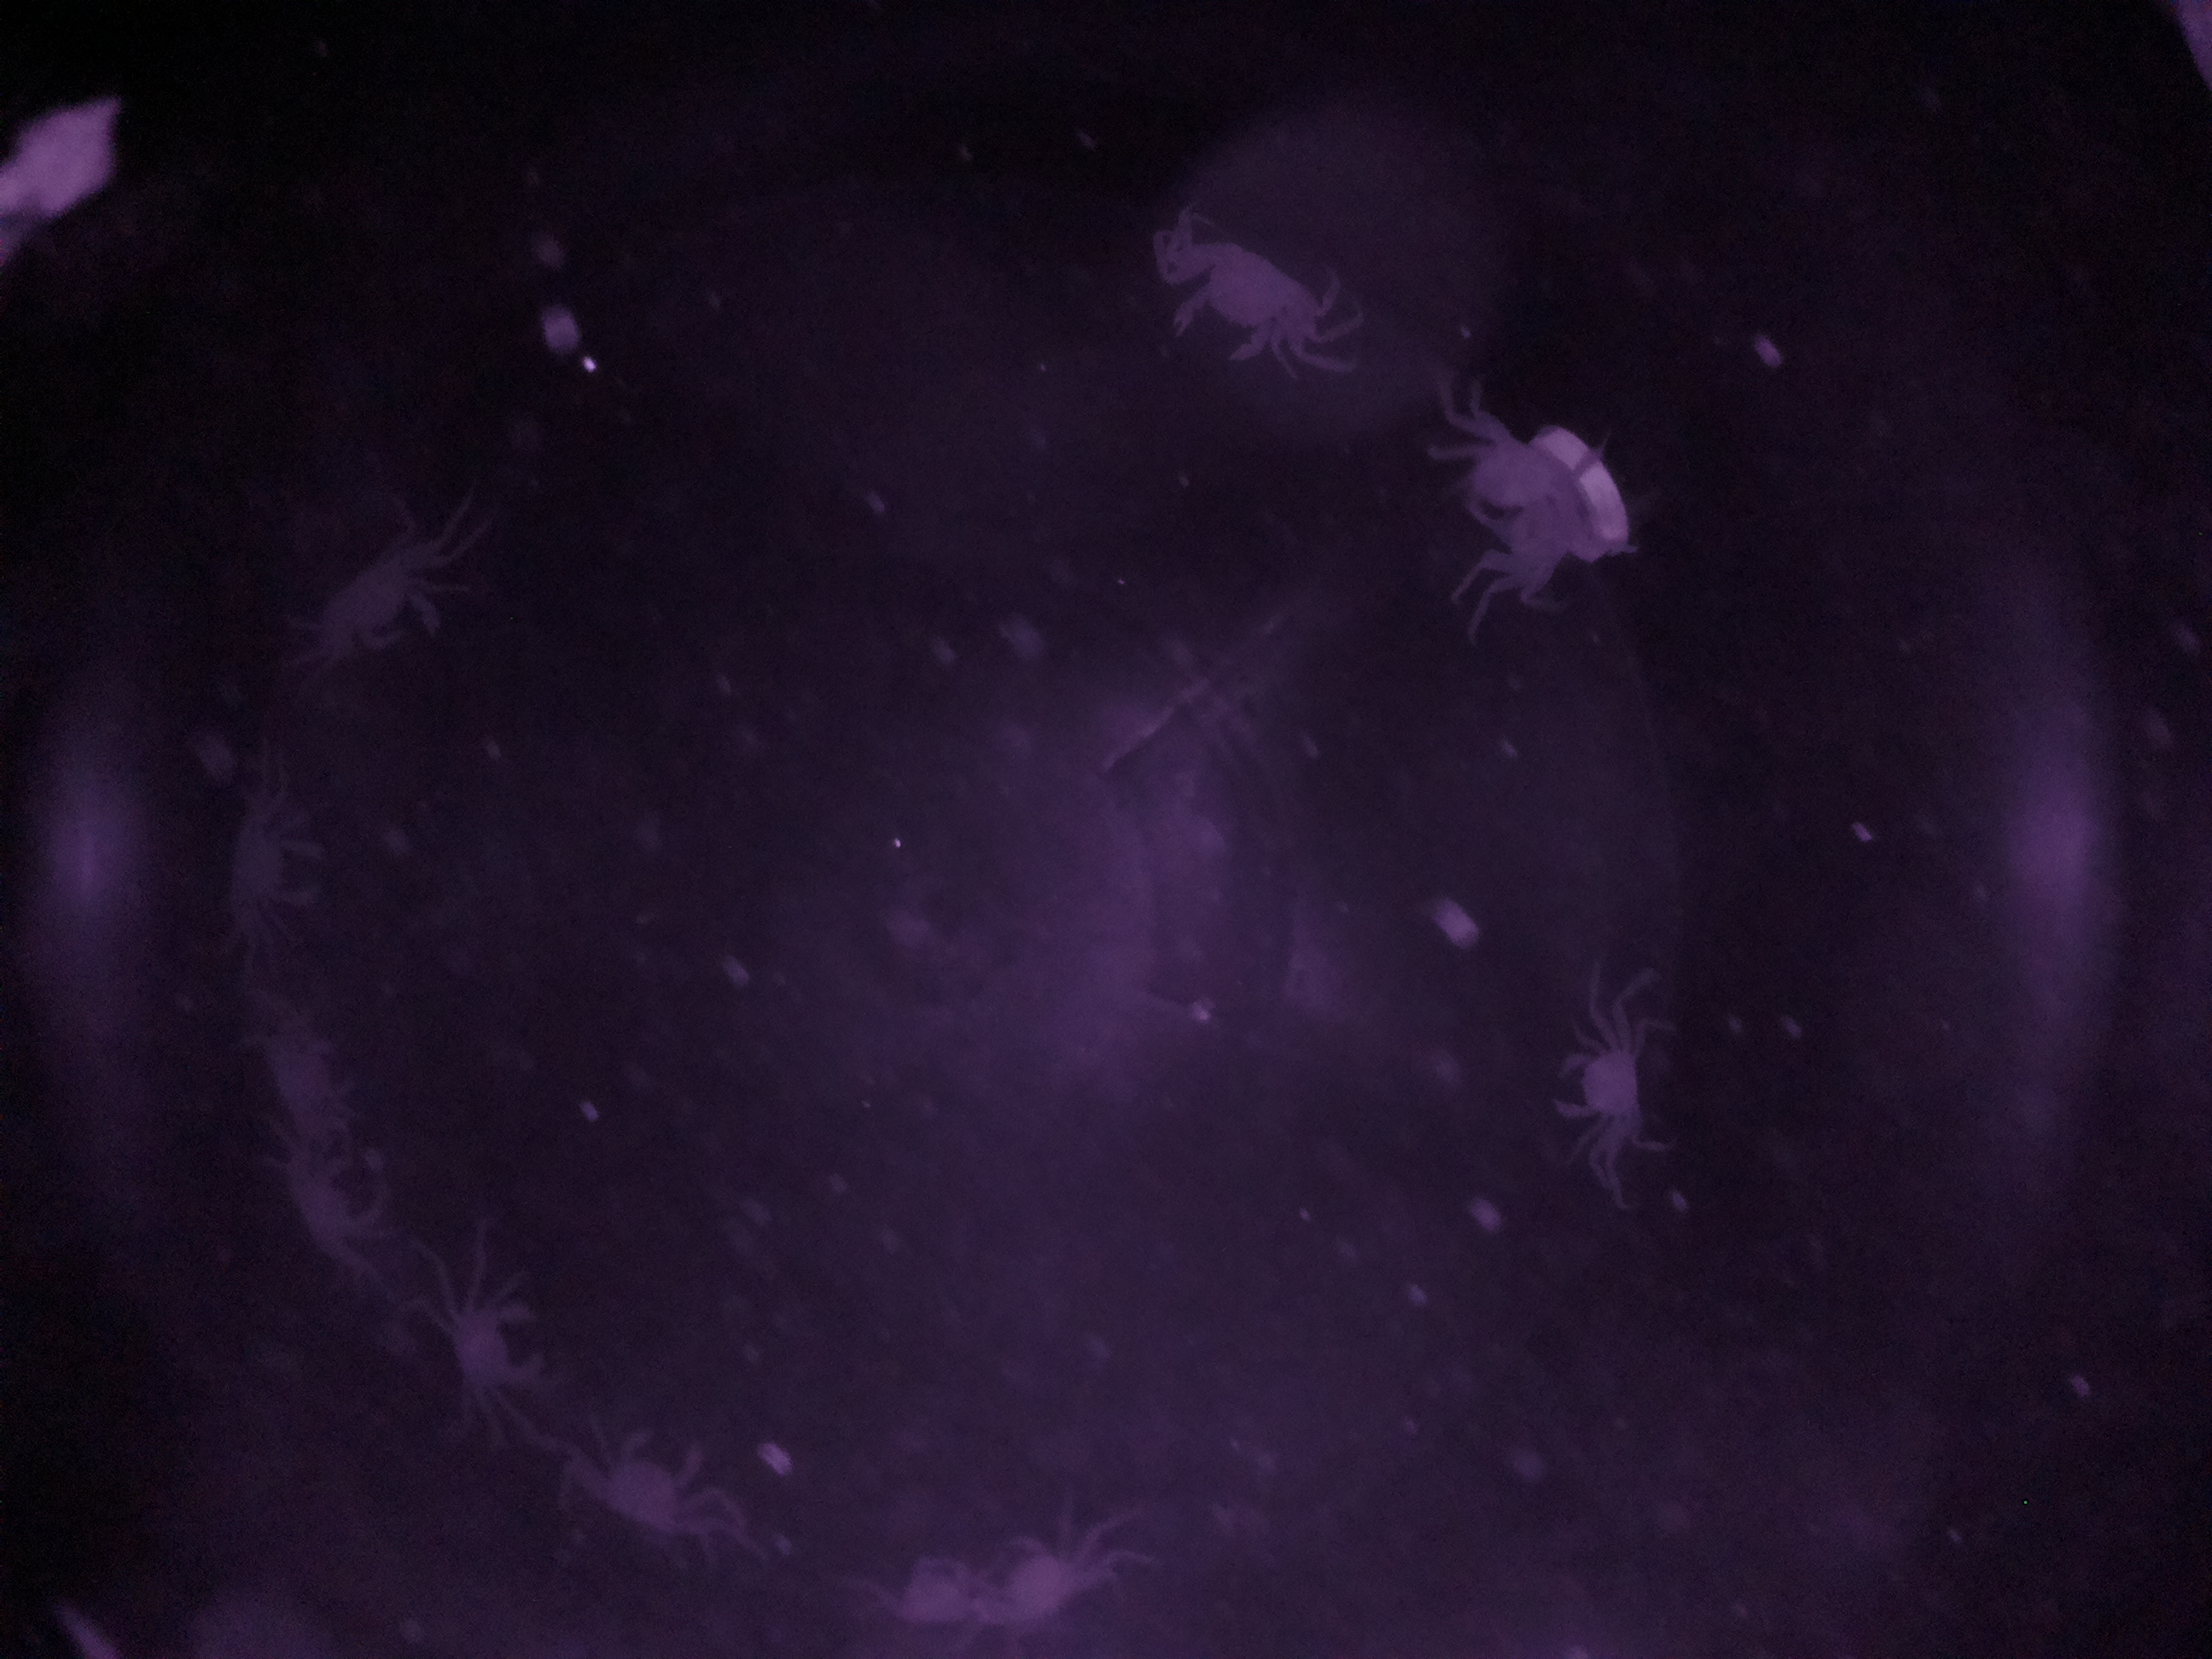Crab: (533, 1380, 752, 1582), (1130, 204, 1360, 390), (1529, 997, 1681, 1182), (296, 511, 462, 680), (415, 1267, 583, 1415)
